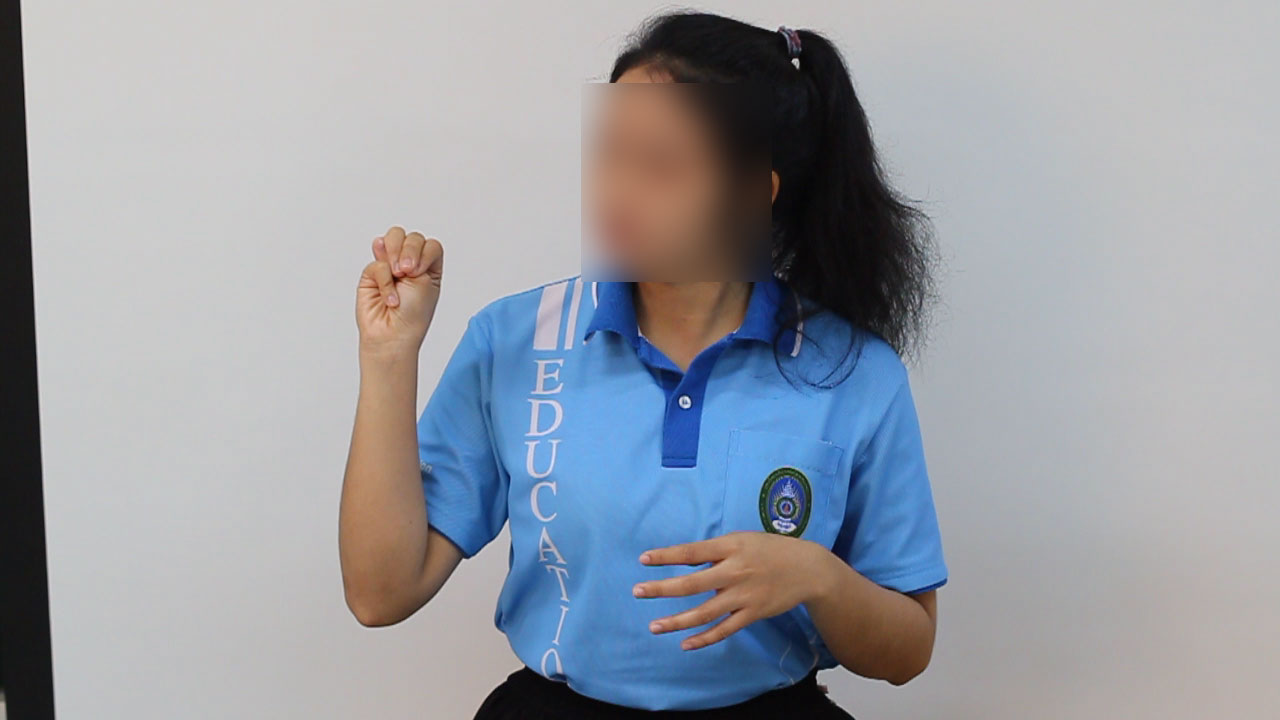mor: (343, 204, 453, 377)
